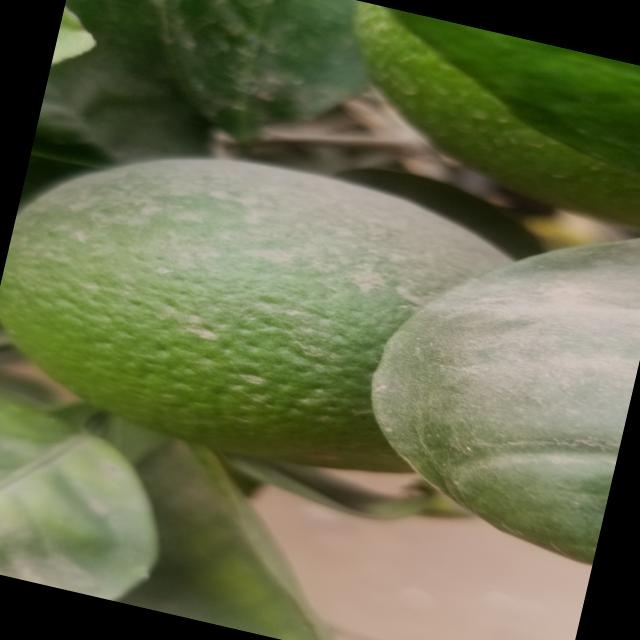agrume: (0, 101, 589, 531)
